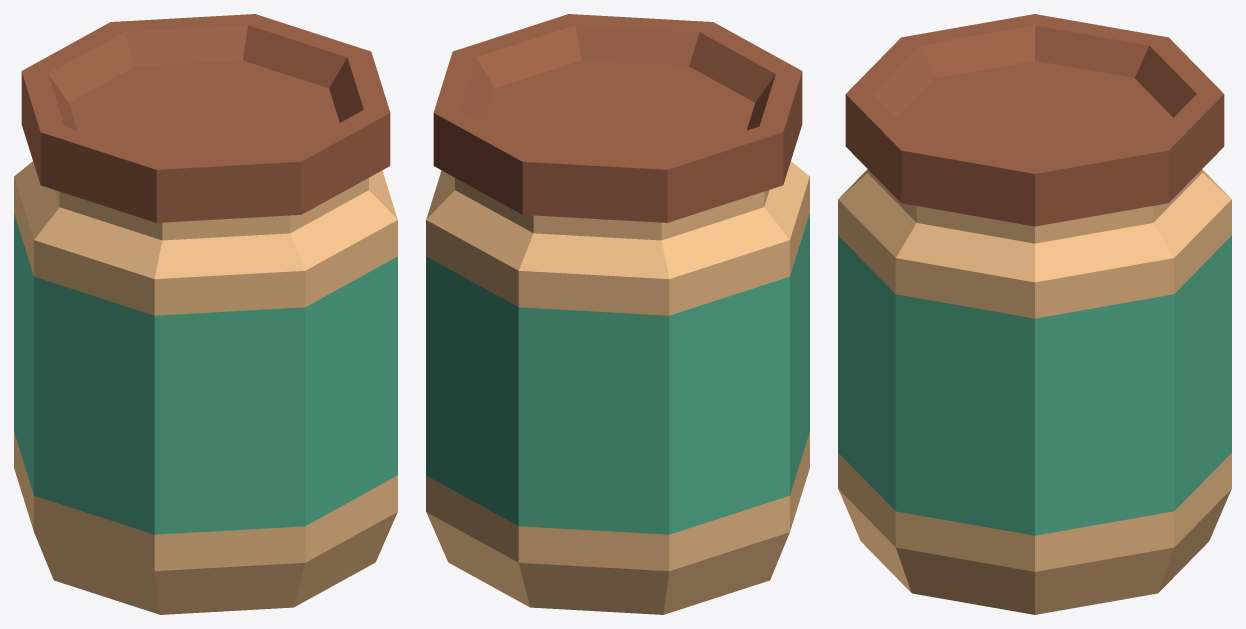
The model's file is peanutButter.obj.
The picture shows the model from 3 angles, left to right: view 1: azimuth 30°, elevation 25°; view 2: azimuth 150°, elevation 25°; view 3: azimuth 270°, elevation 25°; orthographic projection.
Visible parts, largest first — view 1: peanutButter; view 2: peanutButter; view 3: peanutButter.
Part boxes in pixels (<box>): peanutButter: <box>14,14,397,614</box>; peanutButter: <box>426,14,809,614</box>; peanutButter: <box>838,14,1231,614</box>.
Bounding box in the file's own units: 0.2359 × 0.2958 × 0.2359.
